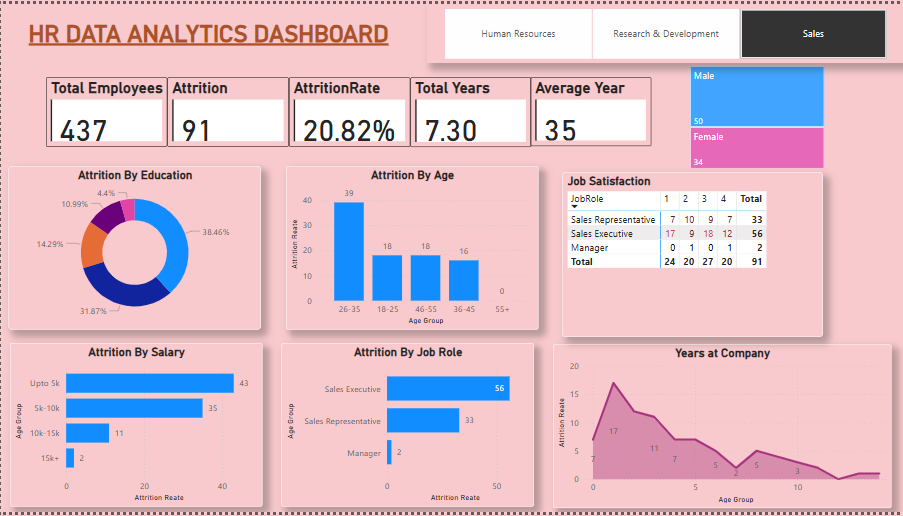

This screenshot's page, from the dashboard's own definition file:
{"tool":"powerbi","page":{"name":"Page 1","canvas":[1280,720],"ordinal":0},"visuals":[{"type":"cardVisual","title":"Total Employees","fields":{"Data":["CountNonNull(HR_Analytics.EmpID)"]},"box":[64,104,172,98],"z":0},{"type":"cardVisual","title":"Attrition","fields":{"Data":["Sum(HR_Analytics.AttritionRate)"]},"box":[236,104,172,98],"z":1000},{"type":"cardVisual","title":"AttritionRate","fields":{"Data":["HR_Analytics.Attrition_Rate"]},"box":[408,104,172,98],"z":2000},{"type":"cardVisual","title":"Total Years","fields":{"Data":["Avg(HR_Analytics.YearsAtCompany)"]},"box":[580,103.8,171.2,98.8],"z":3000},{"type":"cardVisual","title":"Average Year","fields":{"Data":["Median(HR_Analytics.Age)"]},"box":[751.2,103.8,171.2,97.5],"z":4000},{"type":"donutChart","title":"Attrition By Education","fields":{"Category":["HR_Analytics.EducationField"],"Y":["Sum(HR_Analytics.AttritionRate)"]},"box":[10,230,358,232],"z":5000},{"type":"clusteredColumnChart","title":"Attrition By Age","fields":{"Category":["HR_Analytics.AgeGroup"],"Y":["Sum(HR_Analytics.AttritionRate)"]},"box":[404,230,358,232],"z":6000},{"type":"pivotTable","title":"Job Satisfaction","fields":{"Rows":["HR_Analytics.JobRole"],"Columns":["HR_Analytics.JobSatisfaction"],"Values":["Sum(HR_Analytics.AttritionRate)"]},"box":[796,238,370,234],"z":7000},{"type":"barChart","title":"Attrition By Salary","fields":{"Category":["HR_Analytics.SalarySlab"],"Y":["Sum(HR_Analytics.AttritionRate)"]},"box":[12,480,358,232],"z":8000},{"type":"barChart","title":"Attrition By Job Role","fields":{"Category":["HR_Analytics.JobRole"],"Y":["Sum(HR_Analytics.AttritionRate)"]},"box":[398,480,358,232],"z":9000},{"type":"stackedAreaChart","title":"Years at Company","fields":{"Category":["HR_Analytics.YearsAtCompany"],"Y":["Sum(HR_Analytics.AttritionRate)"]},"box":[784,482,480,232],"z":10000},{"type":"treemap","title":"Gender","fields":{"Group":["HR_Analytics.Gender"],"Values":["Sum(HR_Analytics.AttritionRate)"]},"box":[972.5,83.8,200,155],"z":11000},{"type":"slicer","fields":{"Values":["HR_Analytics.Department"]},"box":[604,0,676,84],"z":12000},{"type":"textbox","box":[34,16,546,68],"z":13000}]}

Visuals, with their boxes in screenshot pixels (x1, y1, x2, y2), scaled from the page's 1280x720 canvas onto the 903x516 screenshot:
"Total Employees" cardVisual: bbox=(45, 75, 166, 145)
"Attrition" cardVisual: bbox=(166, 75, 288, 145)
"AttritionRate" cardVisual: bbox=(288, 75, 409, 145)
"Total Years" cardVisual: bbox=(409, 74, 530, 145)
"Average Year" cardVisual: bbox=(530, 74, 651, 144)
"Attrition By Education" donutChart: bbox=(7, 165, 260, 331)
"Attrition By Age" clusteredColumnChart: bbox=(285, 165, 538, 331)
"Job Satisfaction" pivotTable: bbox=(562, 171, 823, 338)
"Attrition By Salary" barChart: bbox=(8, 344, 261, 510)
"Attrition By Job Role" barChart: bbox=(281, 344, 533, 510)
"Years at Company" stackedAreaChart: bbox=(553, 345, 892, 512)
"Gender" treemap: bbox=(686, 60, 827, 171)
slicer - HR_Analytics.Department: bbox=(426, 0, 902, 60)
textbox: bbox=(24, 11, 409, 60)
